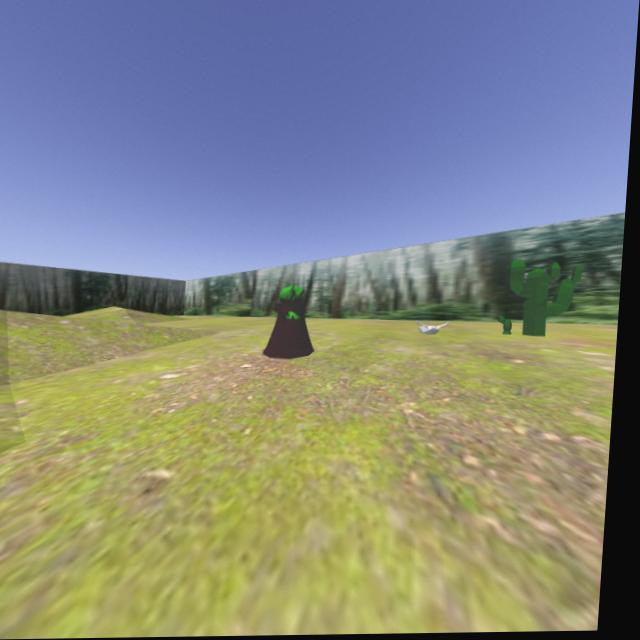yoda: (260, 282, 323, 360)
